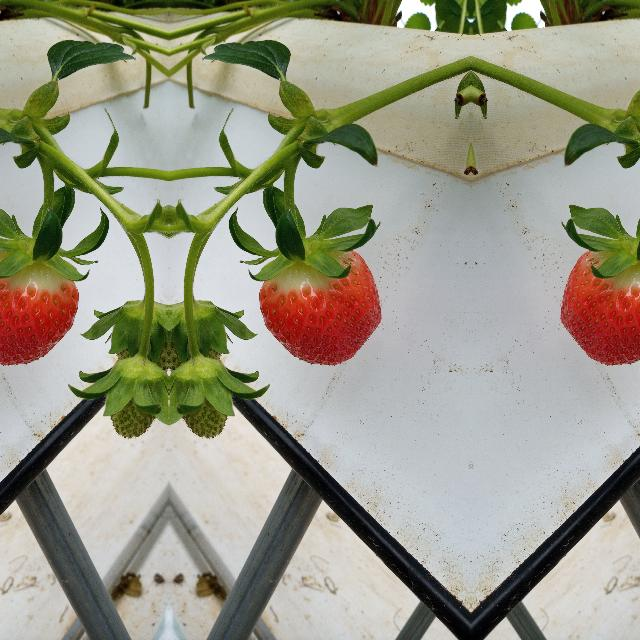Health_100: (257, 250, 381, 366), (560, 250, 640, 366), (0, 250, 79, 366)
Health_25: (175, 356, 235, 444), (101, 356, 161, 444)
